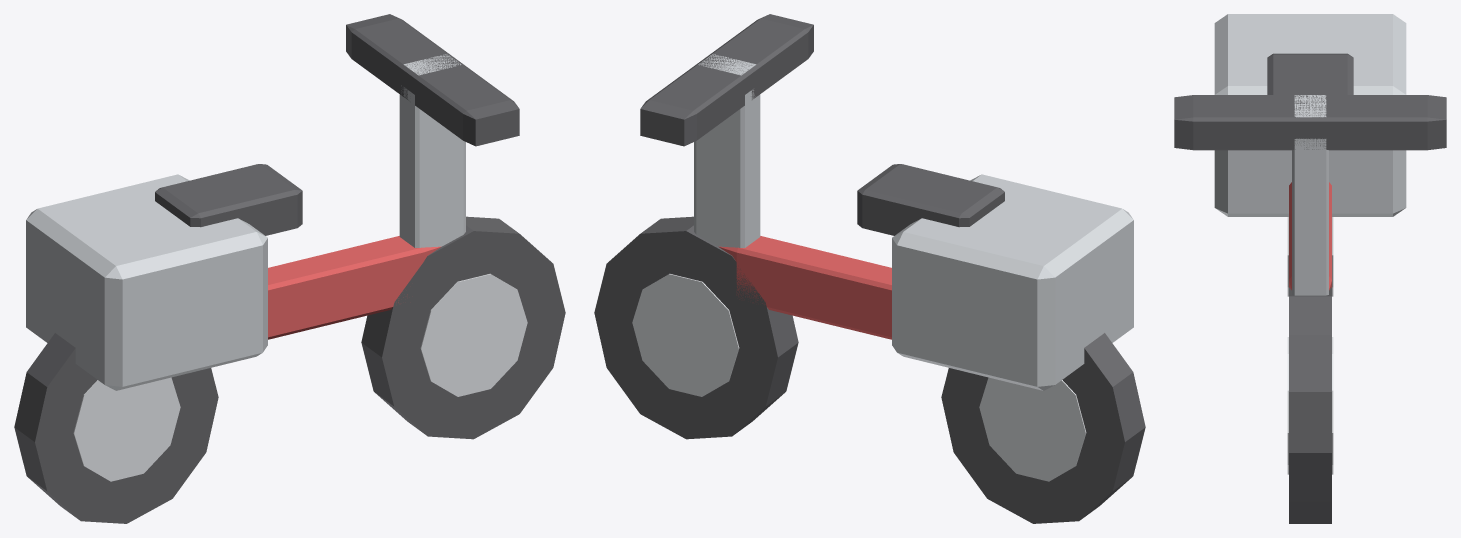
Rendered from b03_luggage_touring_motorcycle.glb.
The picture shows the model from 3 angles, left to right: view 1: azimuth 30°, elevation 25°; view 2: azimuth 150°, elevation 25°; view 3: azimuth 270°, elevation 25°; orthographic projection. The views are drawn at different scales.
Parts seen in each view (by area): view 1: b03_luggage_touring_motorcycle; view 2: b03_luggage_touring_motorcycle; view 3: b03_luggage_touring_motorcycle.
Part boxes in pixels (bbox=[...]): b03_luggage_touring_motorcycle: bbox=[14, 14, 565, 523]; b03_luggage_touring_motorcycle: bbox=[594, 14, 1145, 523]; b03_luggage_touring_motorcycle: bbox=[1174, 14, 1446, 523].
Bounding box in the file's own units: 2.15 × 1.45 × 0.91.
